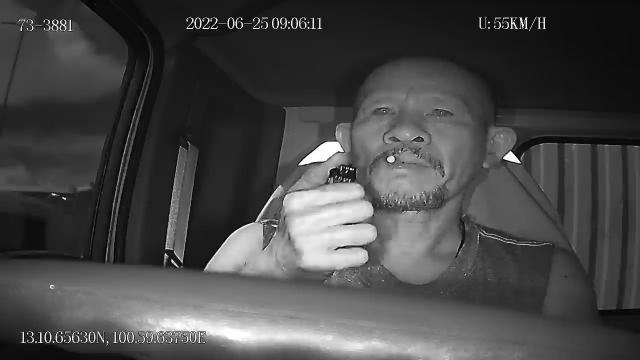SafeDriving: (362, 96, 402, 128), (421, 97, 462, 127)
Smoking: (386, 154, 404, 166)
